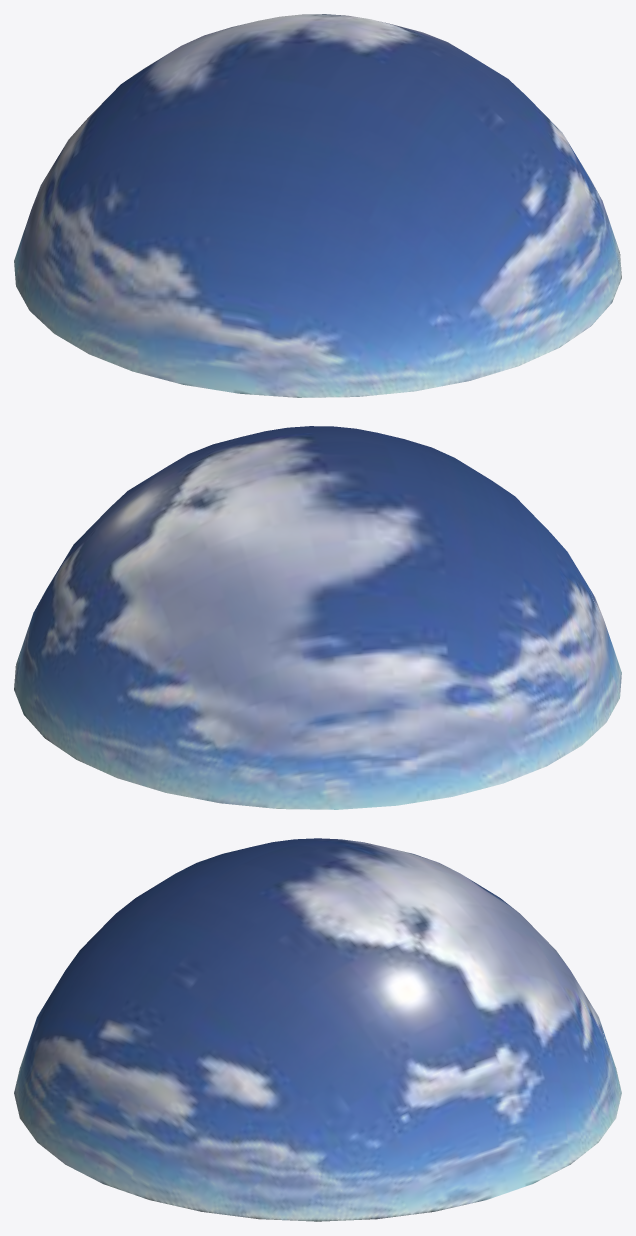
File: SkyDome.fbx
The picture shows the model from 3 angles, top to bottom: view 1: azimuth 30°, elevation 25°; view 2: azimuth 150°, elevation 25°; view 3: azimuth 270°, elevation 25°; orthographic projection.
Parts seen in each view (by area): view 1: Sphere; view 2: Sphere; view 3: Sphere.
Part boxes in pixels (x1,y1,x2,y2): Sphere: (14,14,621,397); Sphere: (14,426,621,809); Sphere: (14,838,621,1221).
Size of the model in its own units: 196 by 80.49 by 196.
